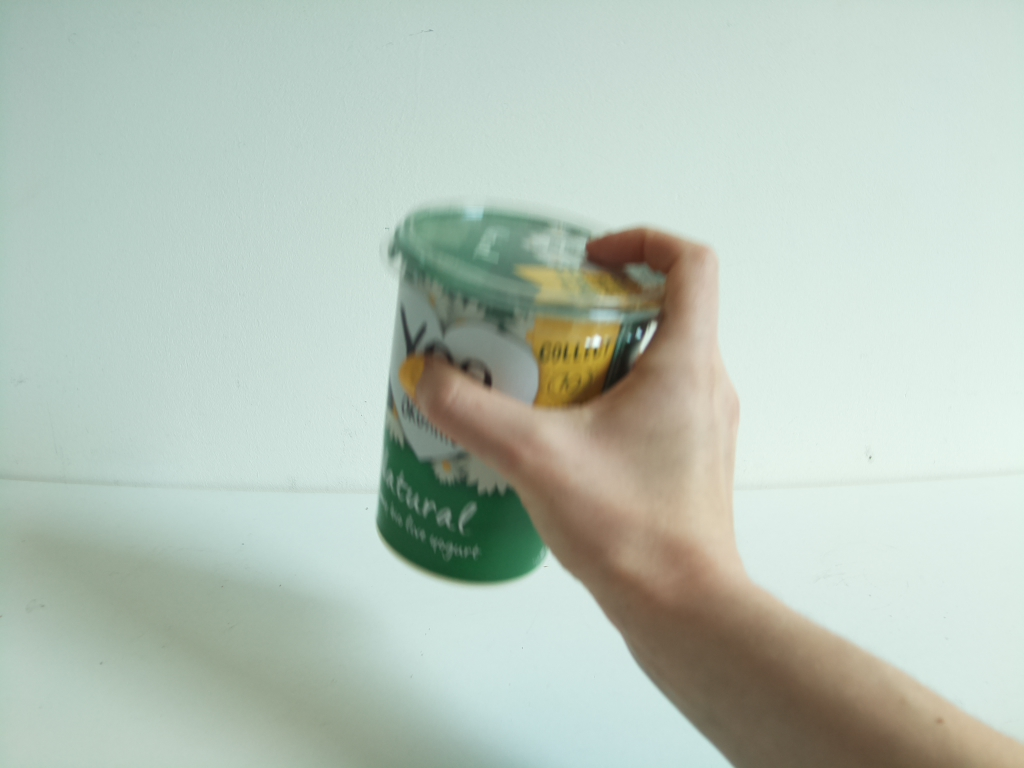yogurt: (373, 196, 668, 587)
